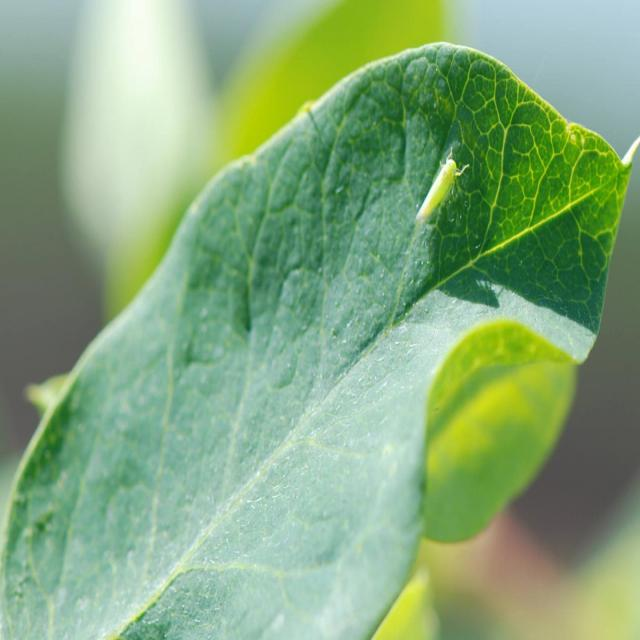Yechan: (412, 147, 469, 228)
